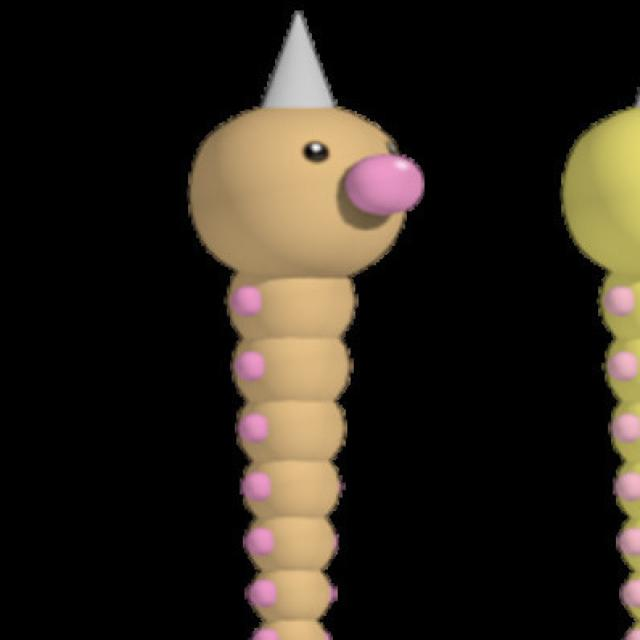Weedle: (188, 2, 432, 640)
